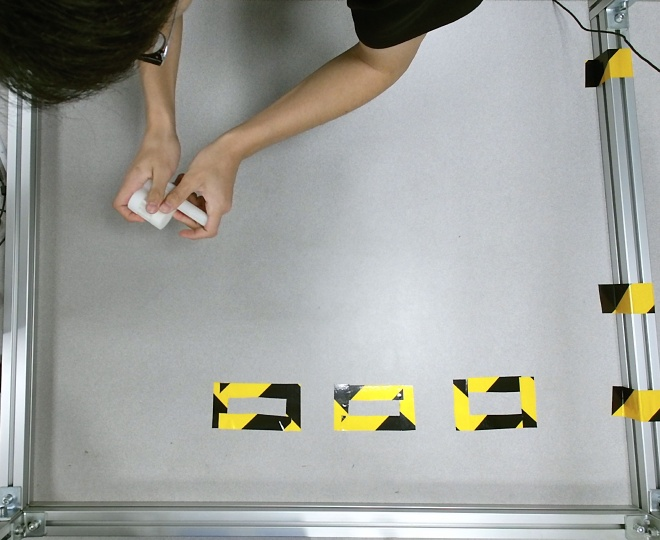stage_4: (129, 178, 209, 230)
